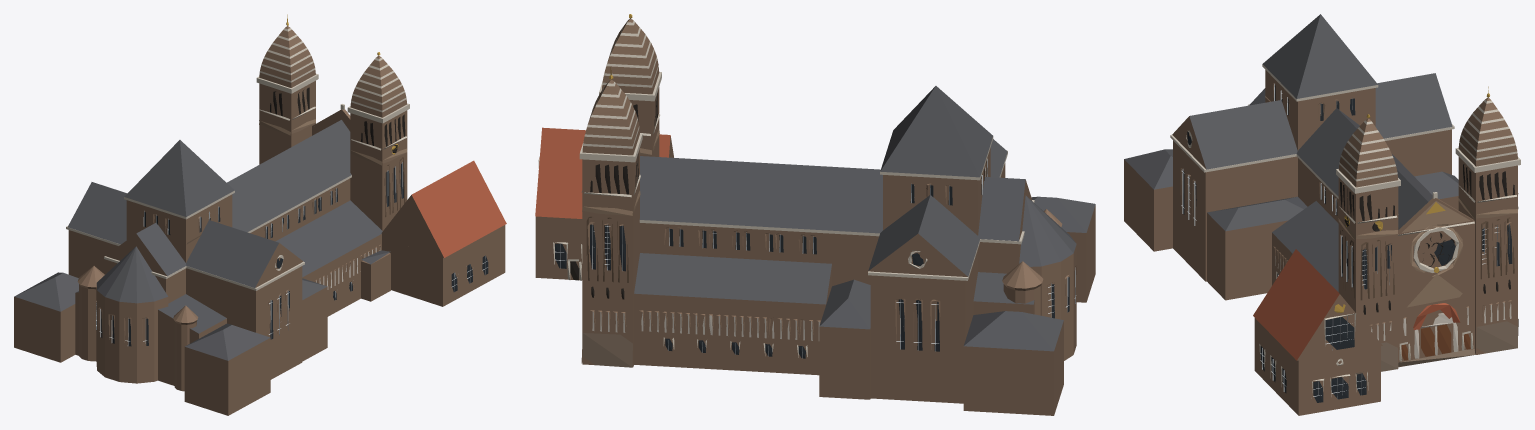
File: obrechtkerk.lod1.glb
The picture shows the model from 3 angles, left to right: view 1: azimuth 30°, elevation 25°; view 2: azimuth 150°, elevation 25°; view 3: azimuth 270°, elevation 25°; orthographic projection. The views are drawn at different scales.
Parts seen in each view (by area): view 1: obrechtkerk; view 2: obrechtkerk; view 3: obrechtkerk.
Part boxes in pixels (box(x1,y1,x2,y2)): obrechtkerk: box(14, 14, 506, 415); obrechtkerk: box(535, 14, 1095, 415); obrechtkerk: box(1124, 14, 1520, 415).
Size of the model in its own units: 81.38 by 40 by 55.71.
